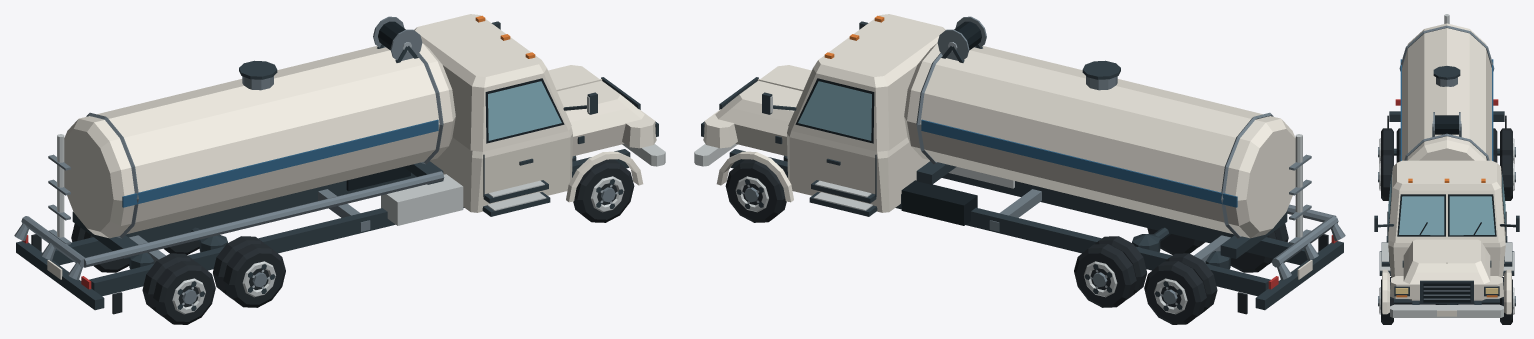
Rendered from b15_water_spray_truck.glb.
3 renders of one model, left to right at view 1: azimuth 30°, elevation 25°; view 2: azimuth 150°, elevation 25°; view 3: azimuth 270°, elevation 25°, orthographic. The views are drawn at different scales.
Parts seen in each view (by area): view 1: b15_water_spray_truck; view 2: b15_water_spray_truck; view 3: b15_water_spray_truck.
Boxes of the visible parts, left/top/right/bottom form: b15_water_spray_truck: left=14, top=14, right=665, bottom=324; b15_water_spray_truck: left=694, top=14, right=1345, bottom=324; b15_water_spray_truck: left=1374, top=14, right=1519, bottom=324.
Size of the model in its own units: 9.88 by 3.33 by 2.9.
